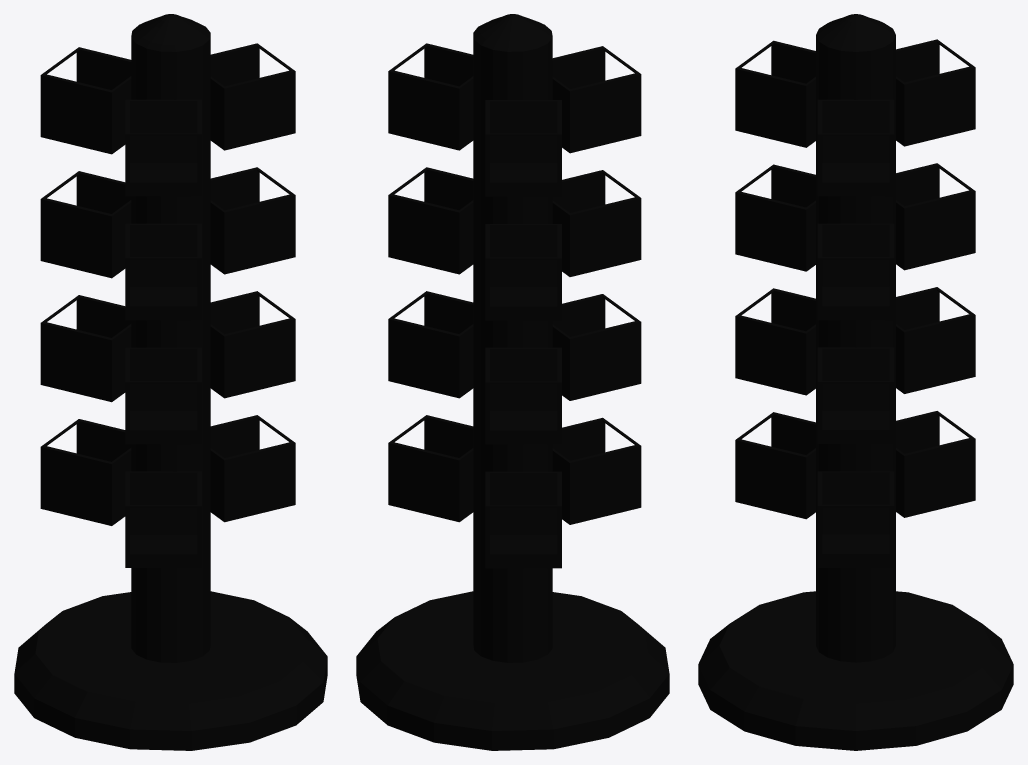
The model's file is Movie_Rack.obj.
3 views of the same model, side by side, from view 1: azimuth 30°, elevation 25°; view 2: azimuth 150°, elevation 25°; view 3: azimuth 270°, elevation 25° (orthographic).
Parts seen in each view (by area): view 1: Movie_rack_Cylinder; view 2: Movie_rack_Cylinder; view 3: Movie_rack_Cylinder.
Boxes of the visible parts, bbox=[...] form: Movie_rack_Cylinder: bbox=[14, 14, 327, 750]; Movie_rack_Cylinder: bbox=[356, 14, 669, 750]; Movie_rack_Cylinder: bbox=[698, 14, 1013, 750].
Size of the model in its own units: 2 by 4.69 by 2.
